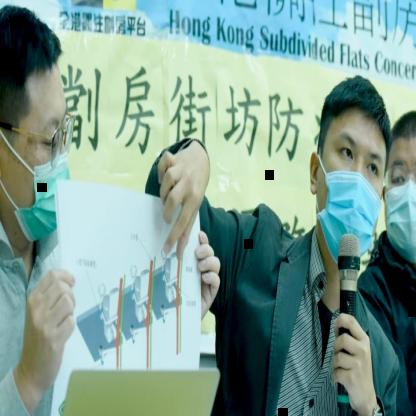mask: (0, 3, 77, 254), (305, 66, 390, 274), (381, 86, 416, 266)
